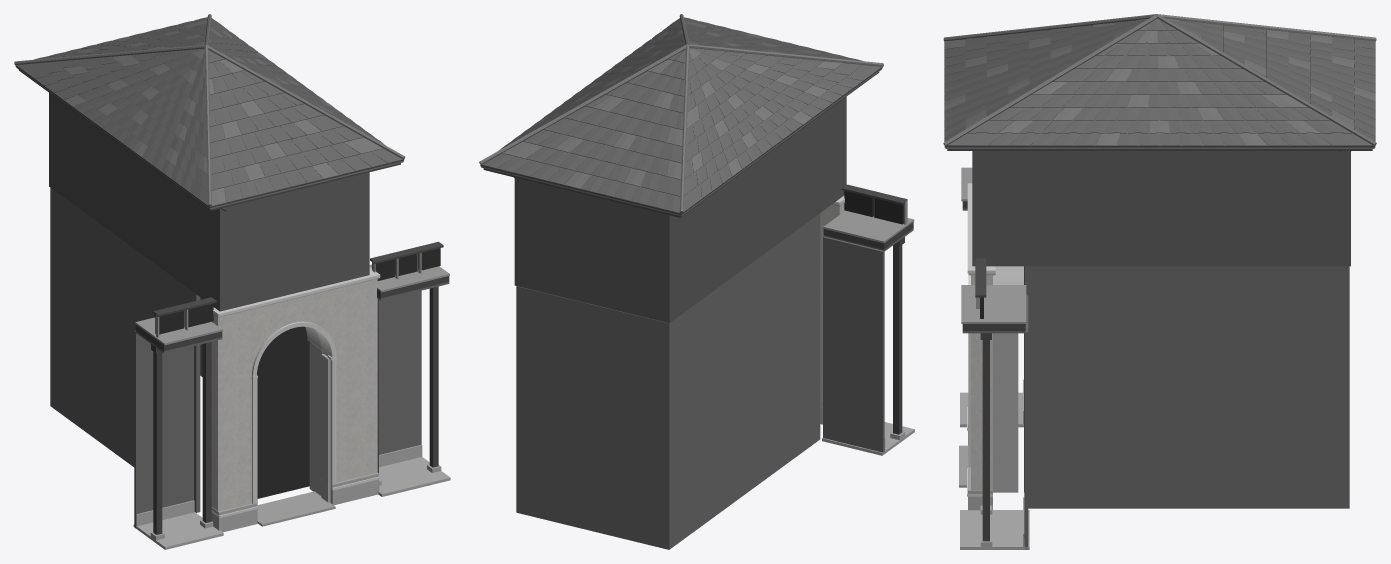
Rendered from yangpu-national-music-school-1936-arched-portico-lod.glb.
3 views of the same model, side by side, from view 1: azimuth 30°, elevation 25°; view 2: azimuth 150°, elevation 25°; view 3: azimuth 270°, elevation 25° (orthographic). The views are drawn at different scales.
Parts seen in each view (by area): view 1: 国立音乐专科学校正校舍中央券门与四坡顶（1936年特刊）; view 2: 国立音乐专科学校正校舍中央券门与四坡顶（1936年特刊）; view 3: 国立音乐专科学校正校舍中央券门与四坡顶（1936年特刊）.
Boxes of the visible parts, box(x1,y1,x2,y2) form: 国立音乐专科学校正校舍中央券门与四坡顶（1936年特刊）: box(14, 14, 450, 549); 国立音乐专科学校正校舍中央券门与四坡顶（1936年特刊）: box(479, 14, 914, 549); 国立音乐专科学校正校舍中央券门与四坡顶（1936年特刊）: box(943, 14, 1376, 549).
Size of the model in its own units: 9.97 by 13.62 by 11.83.
13 materials, 1 textured.
